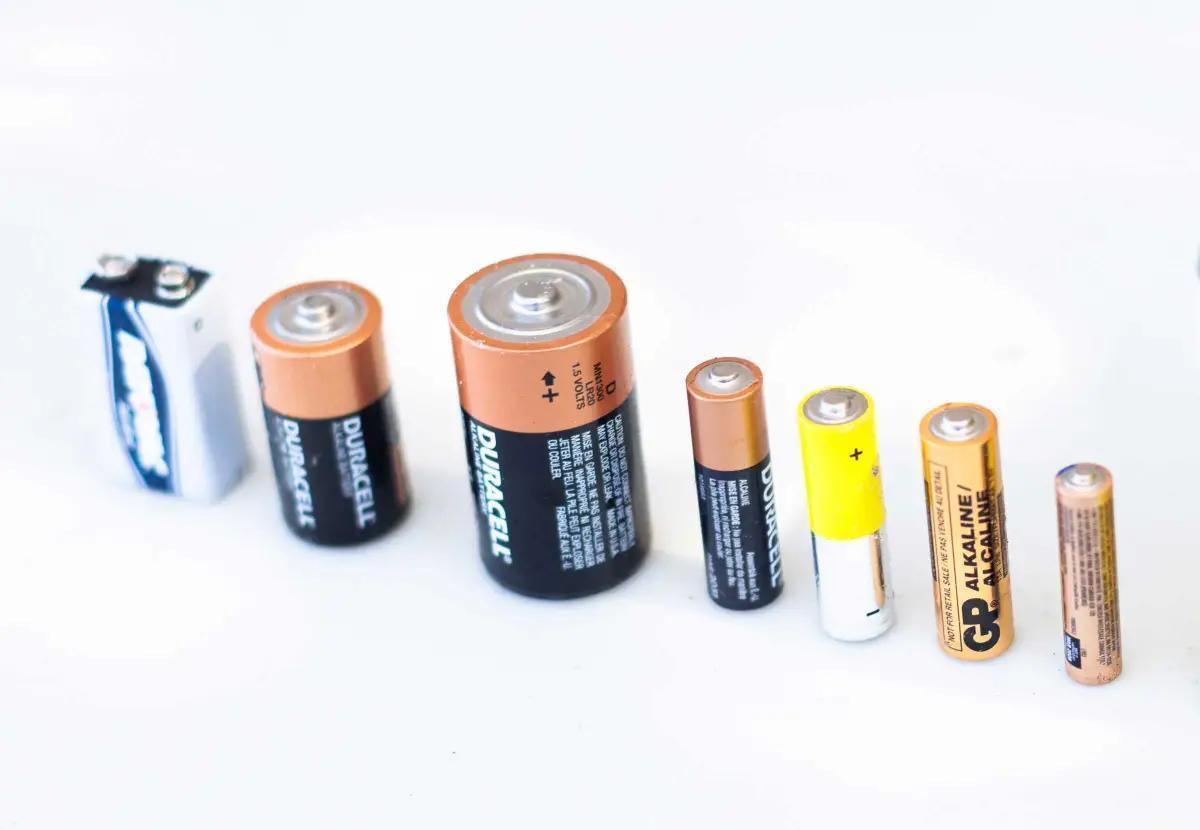AA: (680, 351, 792, 616), (915, 397, 1021, 667), (794, 382, 901, 648), (1051, 458, 1129, 692)
